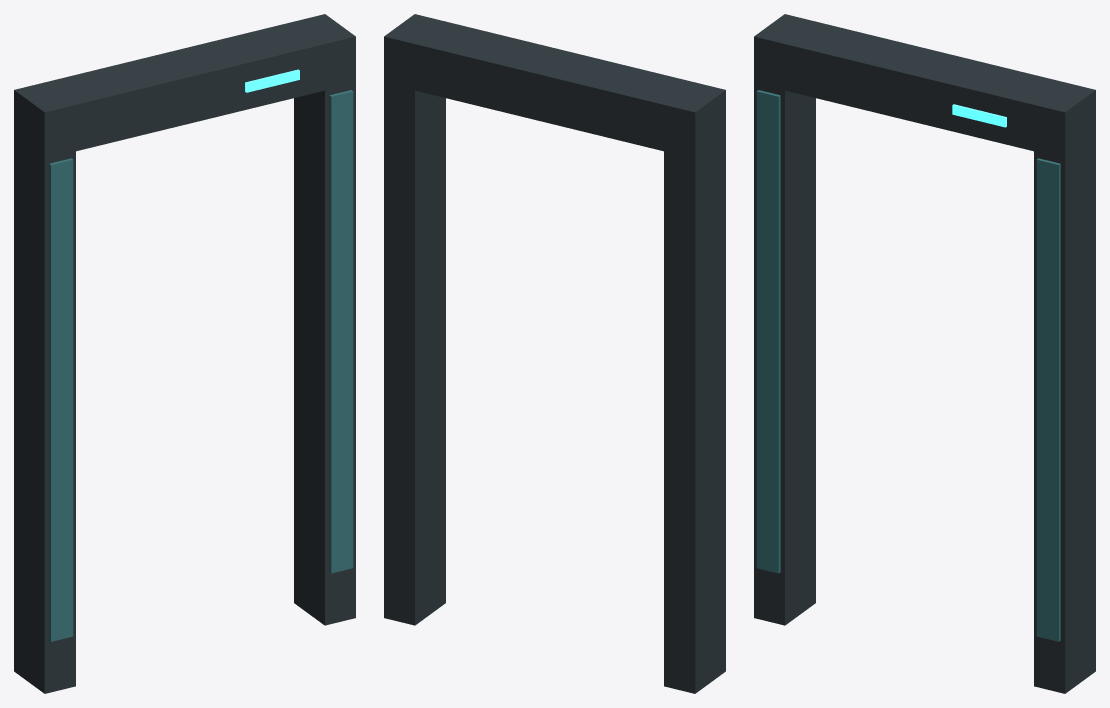
The model's file is door-frame-lod0.glb.
3 views of the same model, side by side, from view 1: azimuth 30°, elevation 25°; view 2: azimuth 150°, elevation 25°; view 3: azimuth 330°, elevation 25° (orthographic).
Visible parts, largest first — view 1: static; view 2: static; view 3: static.
Part boxes in pixels (left/top/right/bottom): static: left=14, top=14, right=355, bottom=693; static: left=384, top=14, right=725, bottom=693; static: left=754, top=14, right=1095, bottom=693.
Bounding box in the file's own units: 1.4 × 2.5 × 0.2545.
